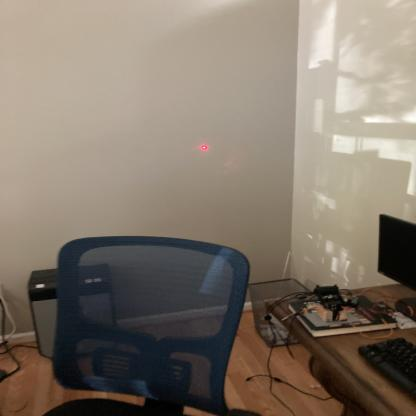target: (200, 142, 208, 153)
